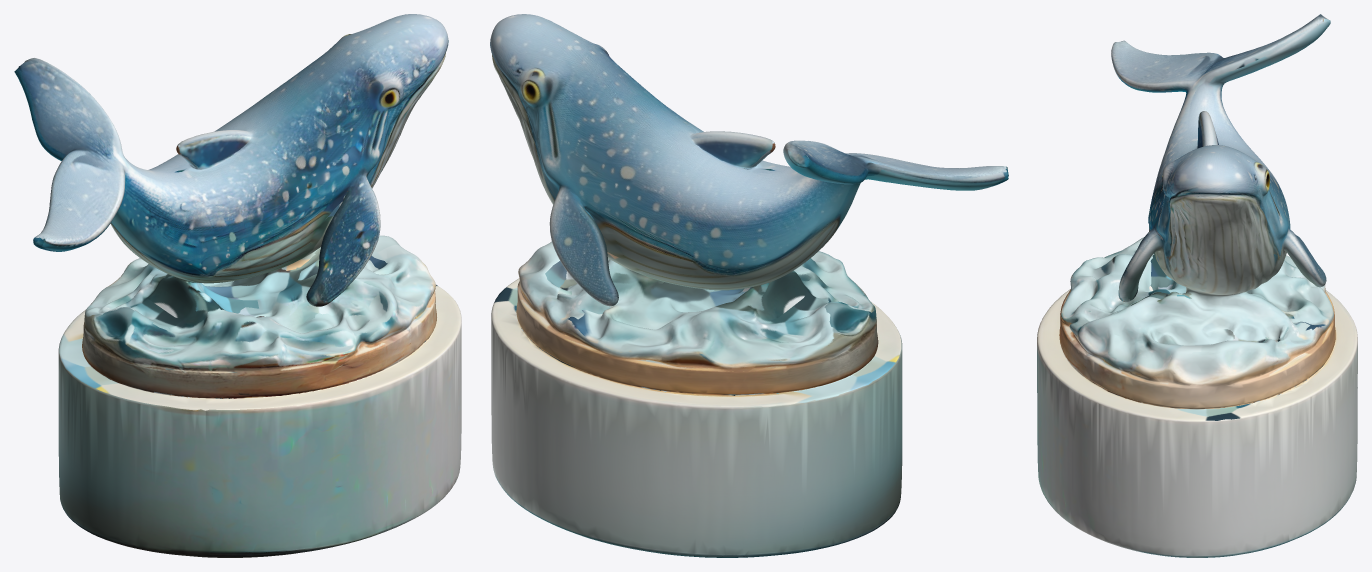
Rendered from seri 2 model 4.glb.
3 views of the same model, side by side, from view 1: azimuth 30°, elevation 25°; view 2: azimuth 150°, elevation 25°; view 3: azimuth 270°, elevation 25° (orthographic). The views are drawn at different scales.
Parts seen in each view (by area): view 1: Whale; view 2: Whale; view 3: Whale.
Part boxes in pixels (left/top/right/bottom): Whale: left=14, top=14, right=461, bottom=557; Whale: left=490, top=14, right=1008, bottom=557; Whale: left=1037, top=14, right=1357, bottom=557.
Bounding box in the file's own units: 0.2173 × 0.2 × 0.1419.
Materials: 1 (1 with a texture image).
